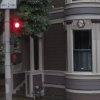Tree: (26, 0, 54, 42)
